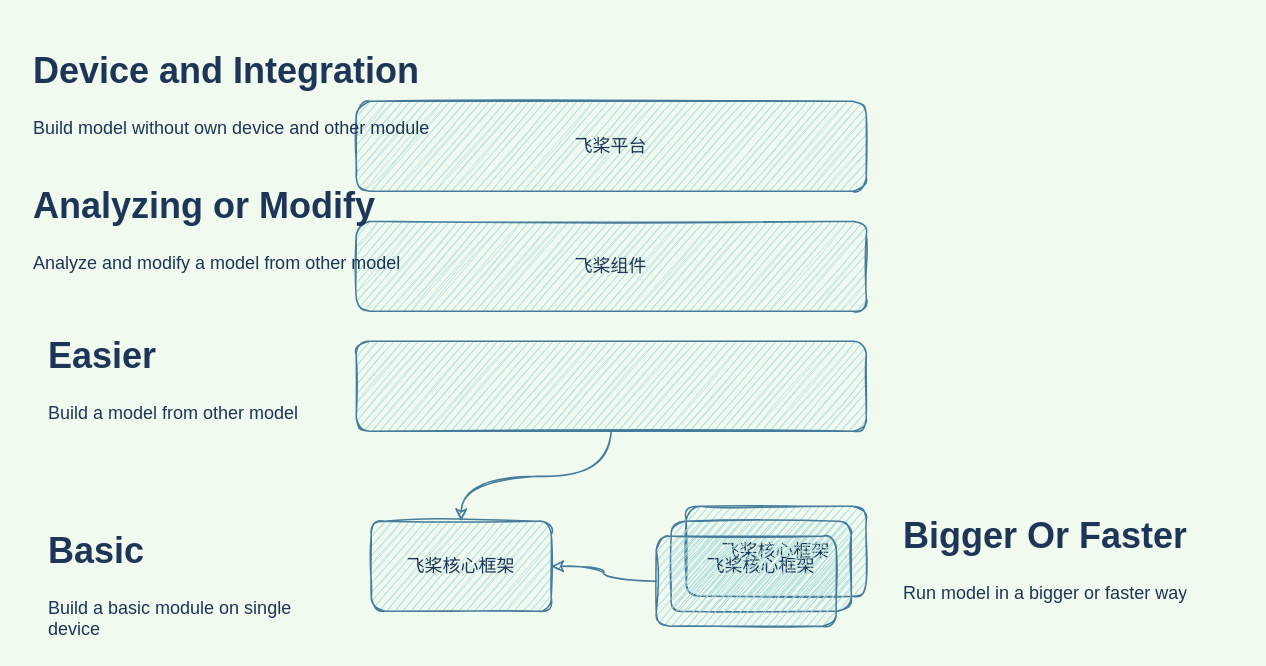
Some shapes in this 1266 by 666 pixel diagram are drawn without their labels. The box of each missing label's shape, as (x1, y1, x2, y2) in pixels:
飞桨分布式技术: (655, 535, 836, 626)
飞桨套件: (355, 340, 866, 431)
